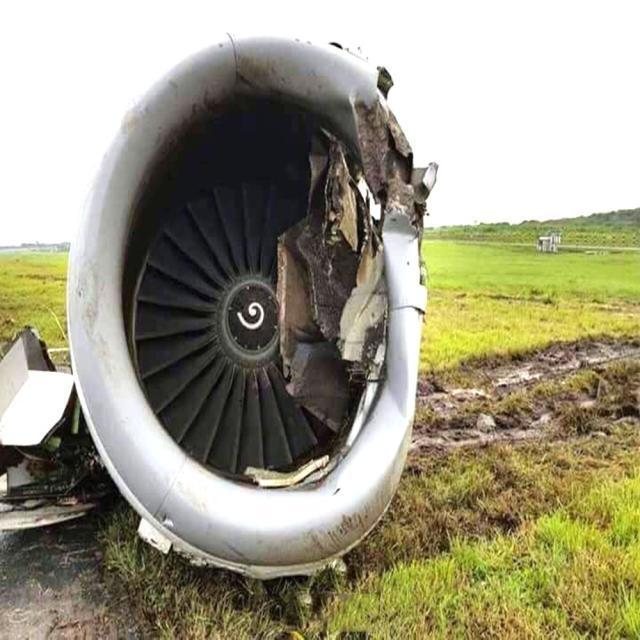dent: (382, 333, 417, 499), (380, 213, 427, 258)
